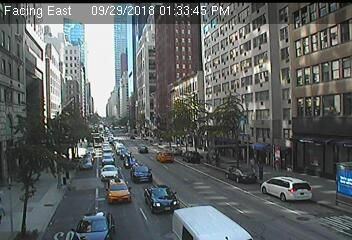car: (172, 205, 251, 240), (261, 176, 312, 203), (73, 211, 114, 240), (144, 185, 180, 213), (105, 179, 132, 202), (225, 167, 257, 184), (130, 164, 153, 184), (100, 165, 120, 181), (183, 151, 200, 164), (155, 151, 173, 163), (123, 156, 138, 168), (100, 153, 114, 164), (79, 159, 92, 170), (167, 146, 181, 156), (82, 154, 94, 164), (119, 149, 131, 159), (137, 146, 148, 154)
